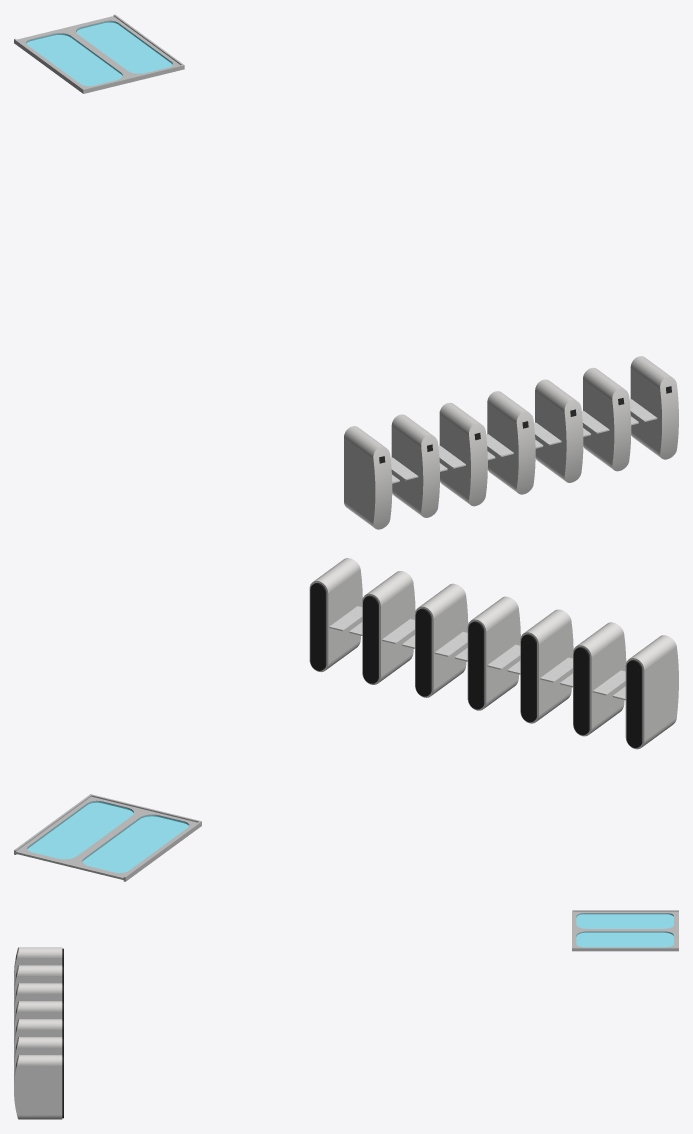
The picture shows the model from 3 angles, top to bottom: view 1: azimuth 30°, elevation 25°; view 2: azimuth 150°, elevation 25°; view 3: azimuth 270°, elevation 25°; orthographic projection. The views are drawn at different scales.
Visible parts, largest first — view 1: 0_0_2_2_2_2_3; view 2: 0_0_2_2_2_2_3; view 3: 0_0_2_2_2_2_3.
Part boxes in pixels (x1,y1,x2,y2): 0_0_2_2_2_2_3: [14, 14, 678, 529]; 0_0_2_2_2_2_3: [14, 558, 678, 881]; 0_0_2_2_2_2_3: [14, 910, 678, 1119].
Size of the model in its own units: 5.4 by 2.74 by 13.3.
6 materials, 1 textured.
